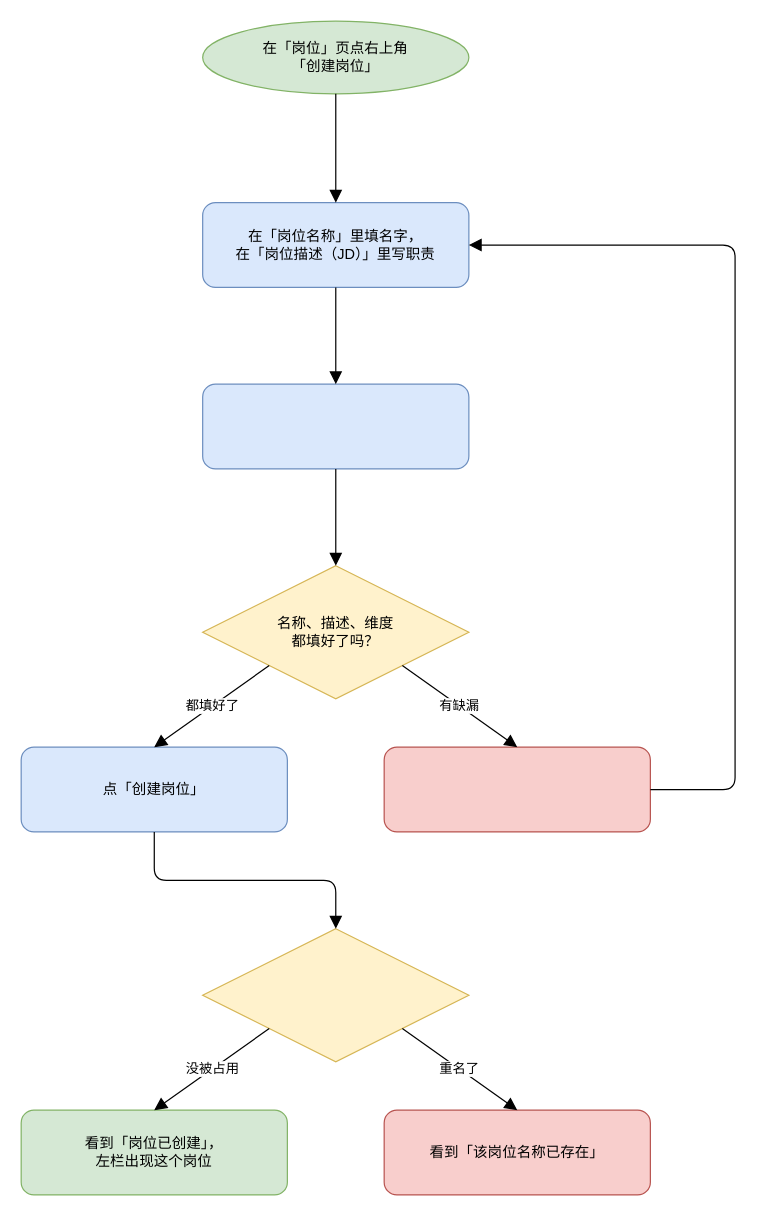
This 768x1216 diagram has some shape labels left out. The centre of each missing label's shape, as x and y in pixels:
"在「评估维度」里逐条填， 不够就点「添加维度」" belongs at [335,426].
"岗位名称是否已被占用？" belongs at [335,994].
"看到「请填写岗位名称」 「请填写岗位描述」或 「至少需要 1 个评估维度」" belongs at [516,789].
